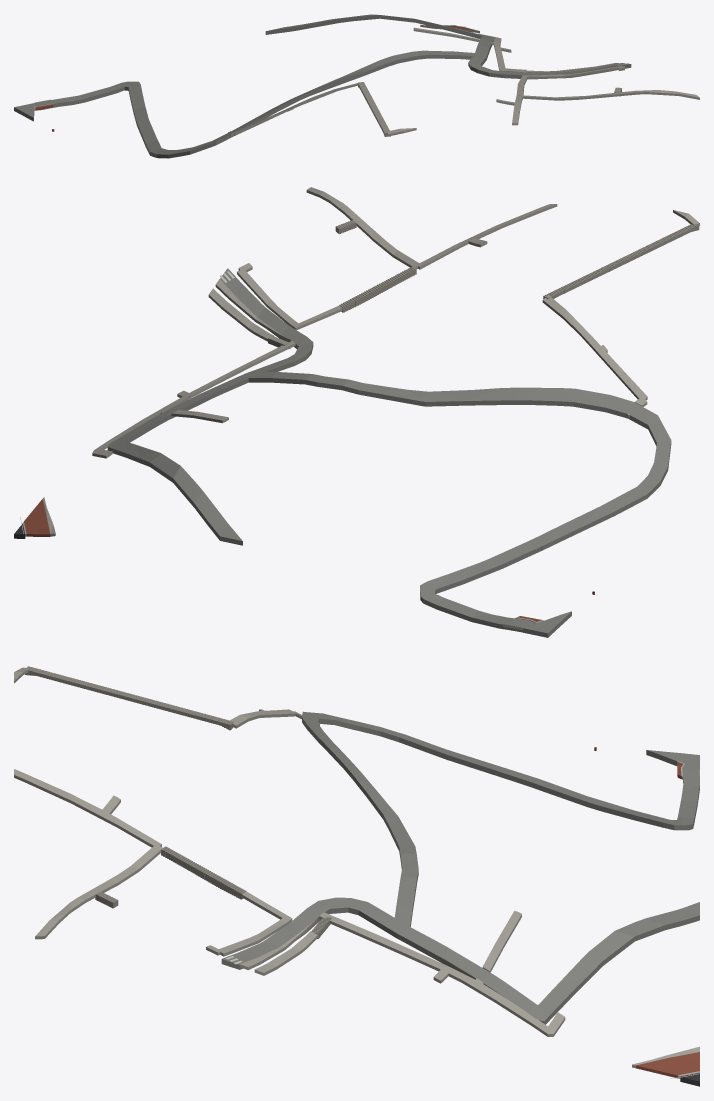
The model's file is 18-218888-118949.05ffd6ab.glb.
3 views of the same model, one above another, from view 1: azimuth 30°, elevation 25°; view 2: azimuth 150°, elevation 25°; view 3: azimuth 270°, elevation 25° (orthographic). The views are drawn at different scales.
Bounding box in the file's own units: 149 × 50.03 × 146.
